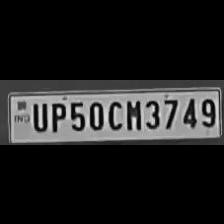0: (86, 97, 104, 129)
3: (142, 96, 160, 130)
4: (179, 95, 197, 127)
5: (66, 97, 86, 131)
7: (162, 96, 178, 128)
9: (198, 96, 216, 127)
C: (104, 97, 122, 129)
M: (122, 96, 142, 130)
P: (48, 98, 66, 132)
U: (28, 98, 48, 132)
